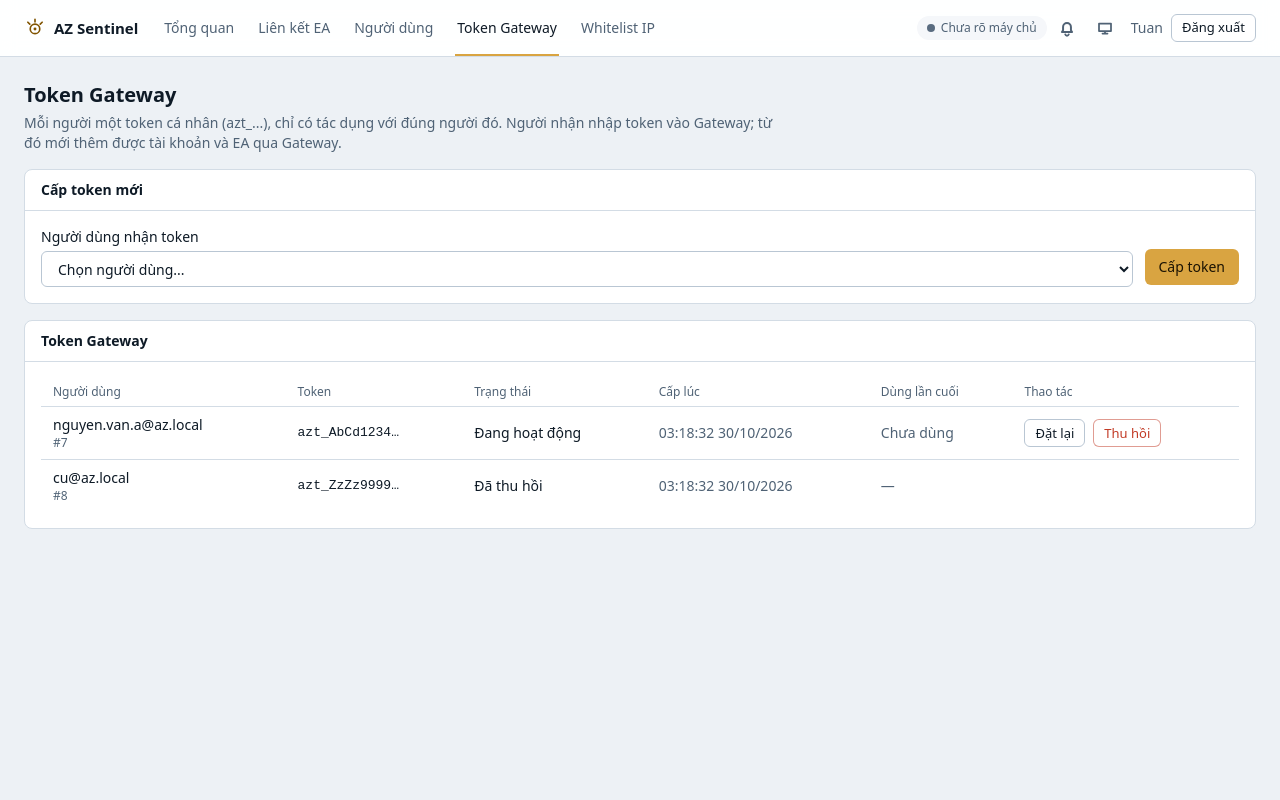
trang Token Gateway (admin) › cấp token mà máy chủ chưa biết địa chỉ công khai: báo không có mã, vẫn có token
Select "Dũng (dũng@az.local)" in the dropdown labelled "Người dùng nhận token" at coordinates (587, 269), box [41,251,1132,287]
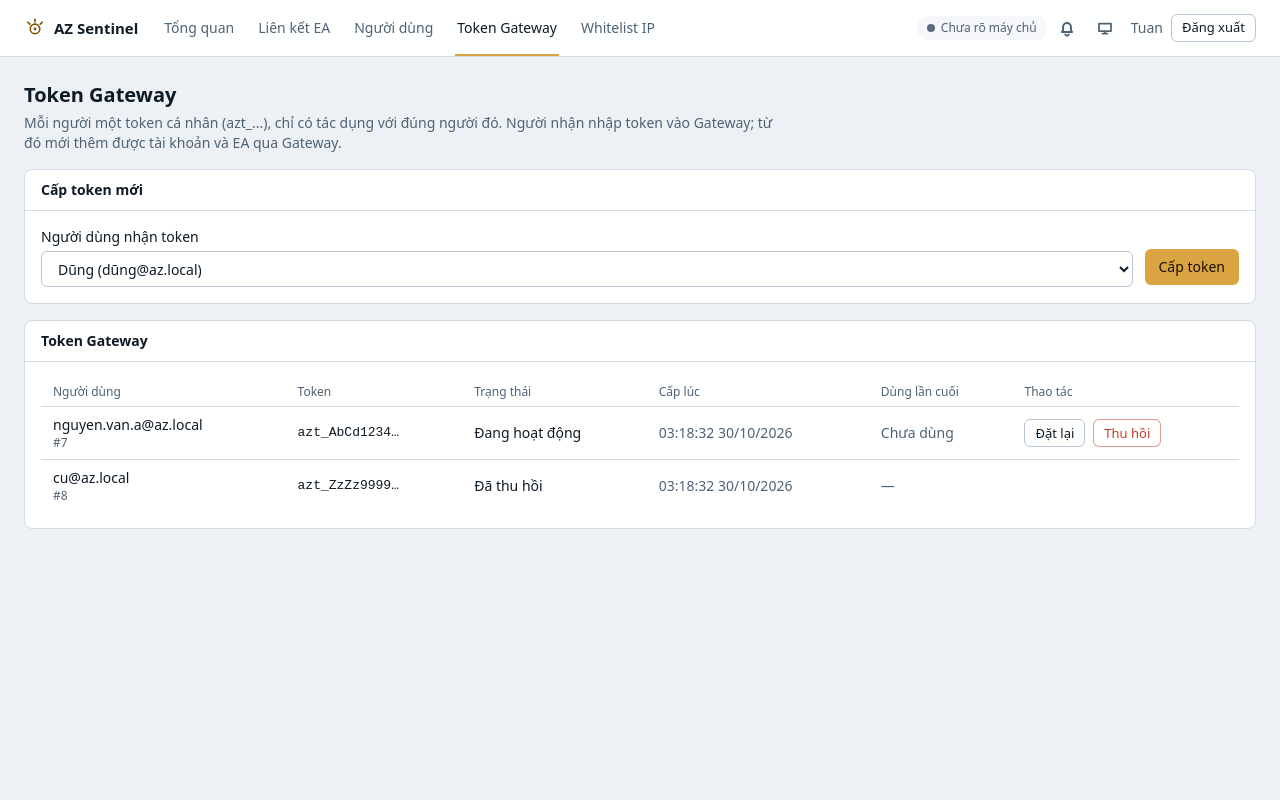
Click the button "Cấp token" at coordinates (1192, 267), box [1144,249,1239,285]
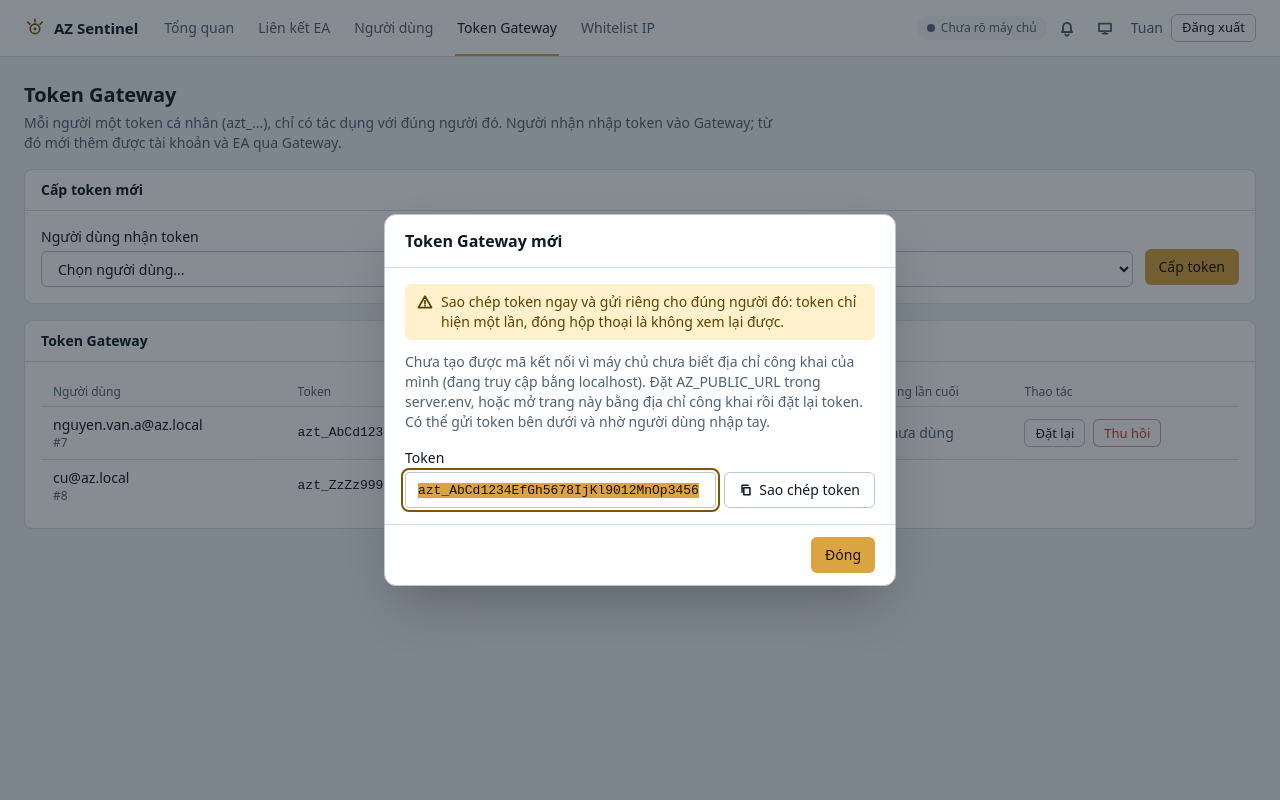
Expected: the text "Chưa tạo được mã kết nối vì máy chủ chưa biết địa chỉ công khai của mình (đang truy cập bằng localhost). Đặt AZ_PUBLIC_U" is shown, [405,352,863,431]
Expected: the field labelled "Token" holds "azt_AbCd1234EfGh5678IjKl9012MnOp3456", [405,472,716,508]
